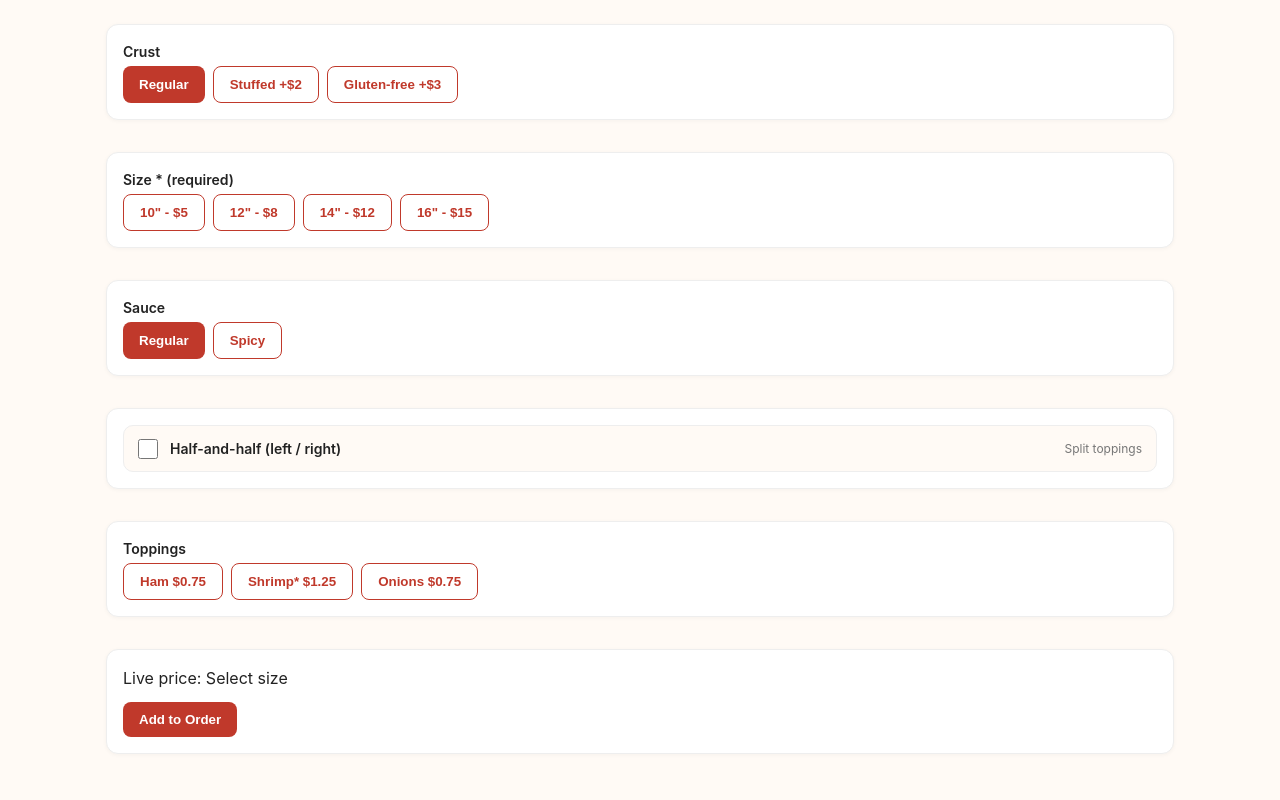
Test: PizzaBuilder - TST-3 › FR-BUILD-8: shows inline error when Add to Order clicked with no size selected
Click the button "Add to Order" at (180, 720), box [123, 702, 237, 737]
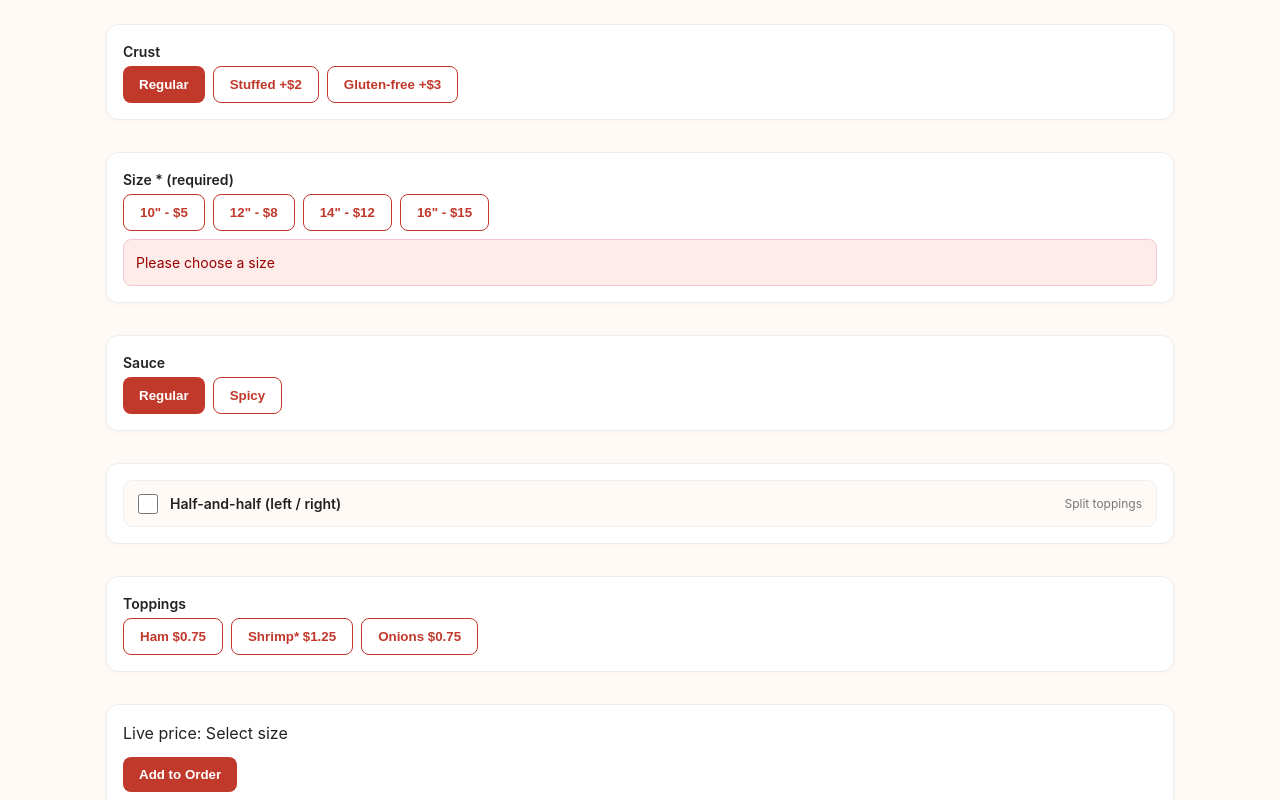
Now the text "Please choose a size" is shown, box [123, 239, 1157, 286]
